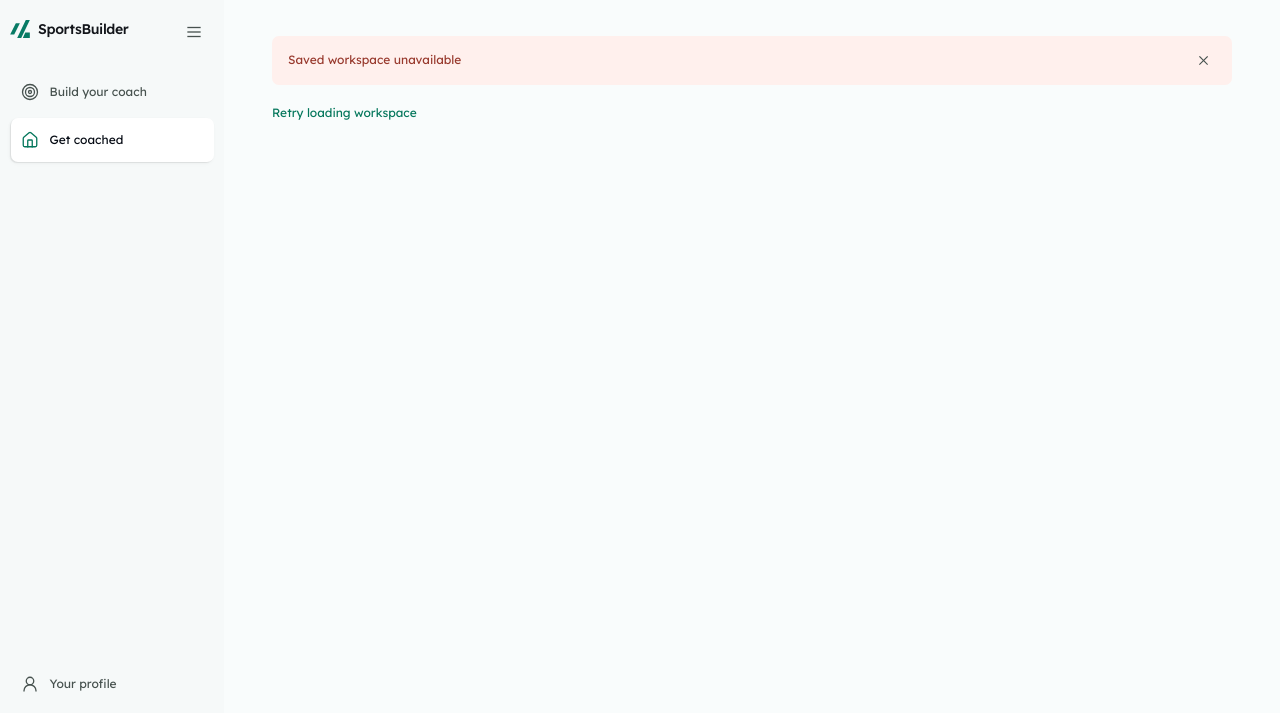
saved workspace loading › offers an explicit retry after a saved-workspace failure
Click the button "Retry loading workspace". click: [344, 112]
box: left=272, top=96, right=417, bottom=128
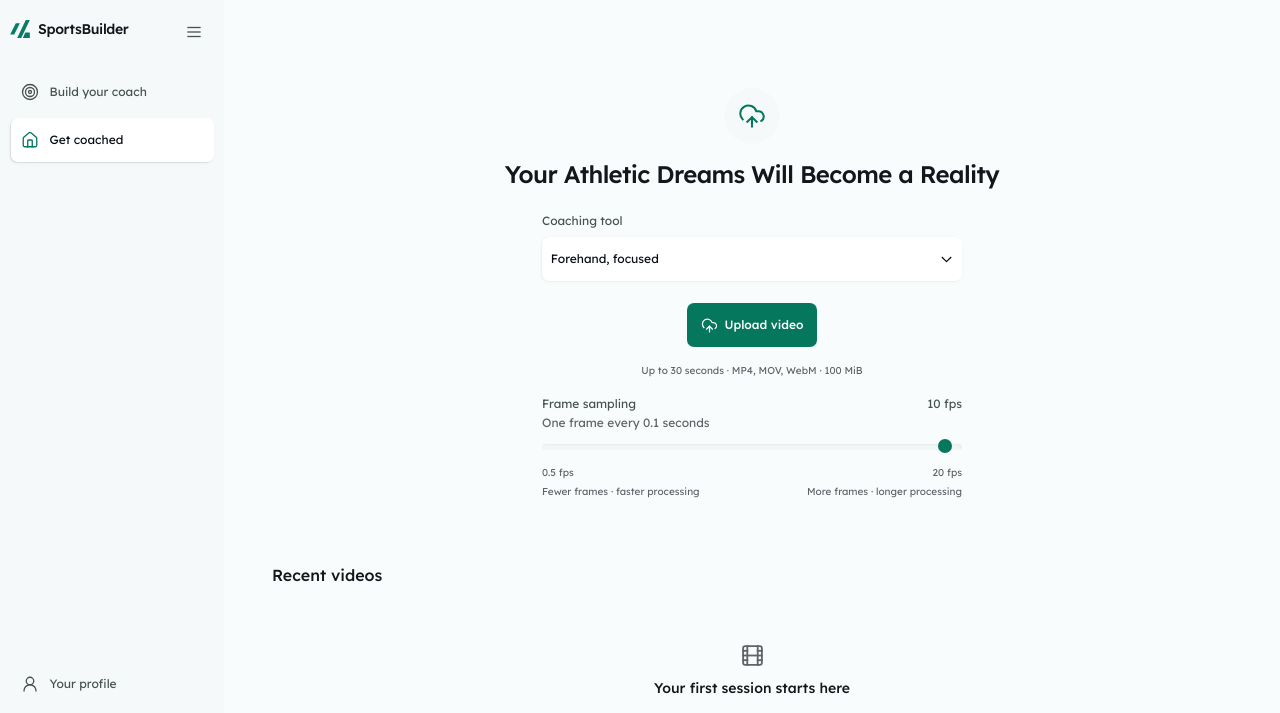
Expected: the message "Saved workspace unavailable" is gone
